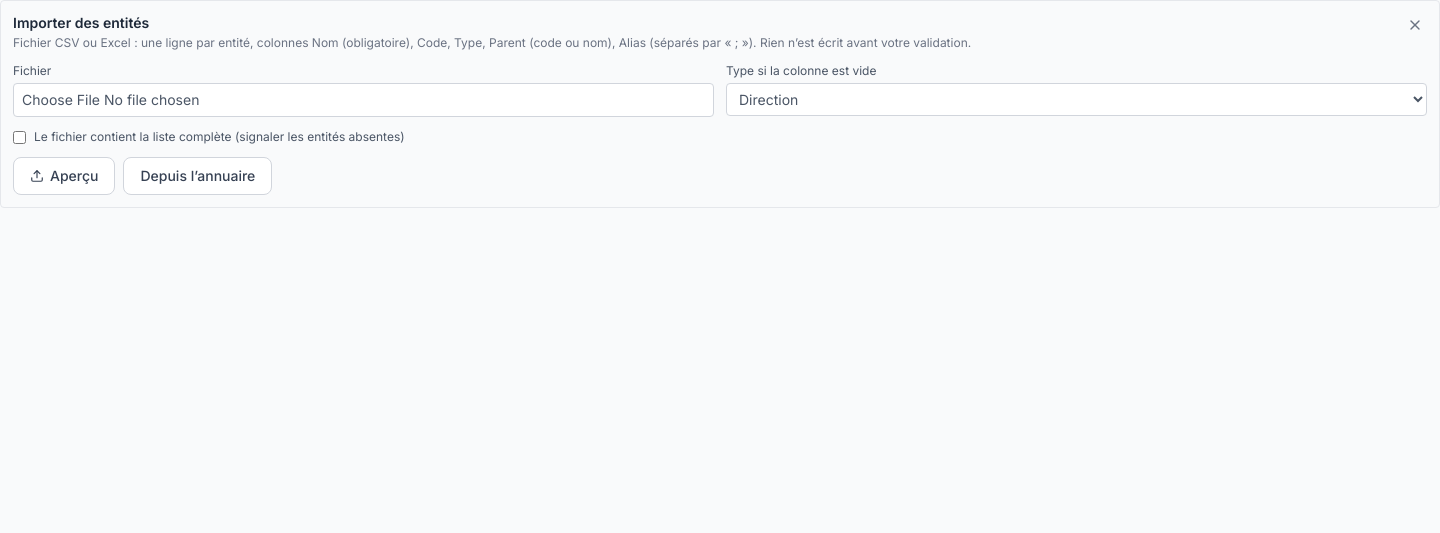
Scenario: ImportEntitesPanel › connecteur configuré : aperçu depuis l’annuaire
Click the button "Depuis l’annuaire". click: (198, 176)
box: [124, 157, 272, 195]
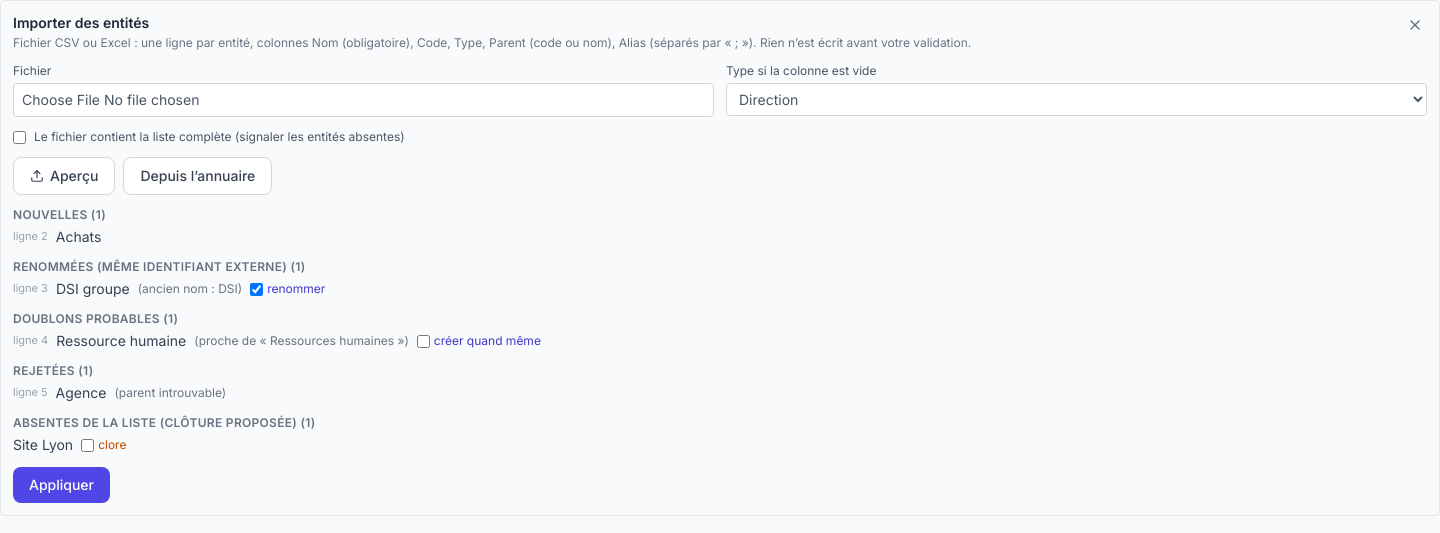
Now the heading "Nouvelles (1)" is shown, box [13, 207, 106, 222]
